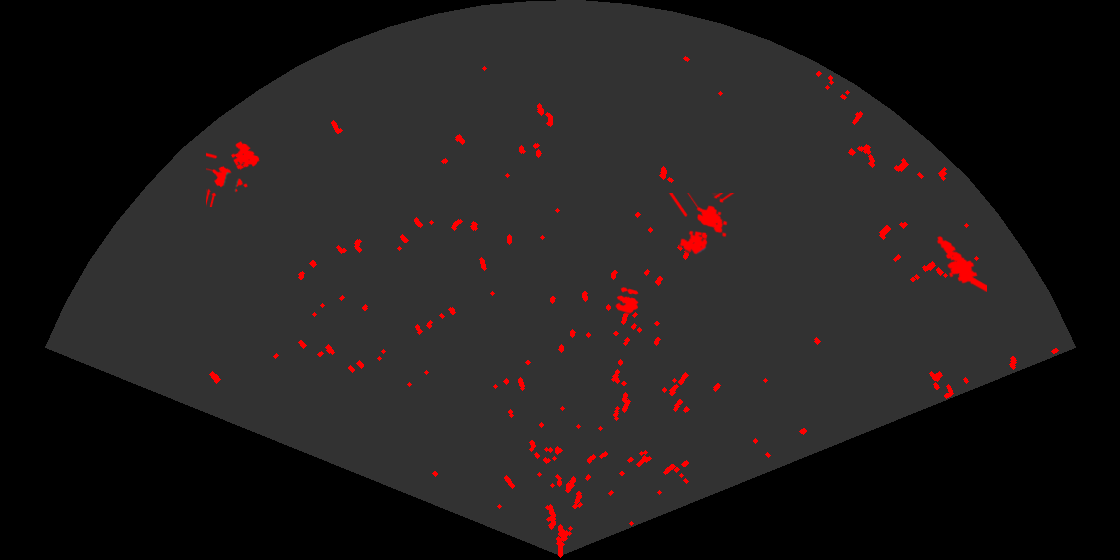ball: (613, 286, 640, 315)
cage: (667, 193, 736, 256), (206, 139, 261, 207)
frogman: (935, 234, 987, 292)
